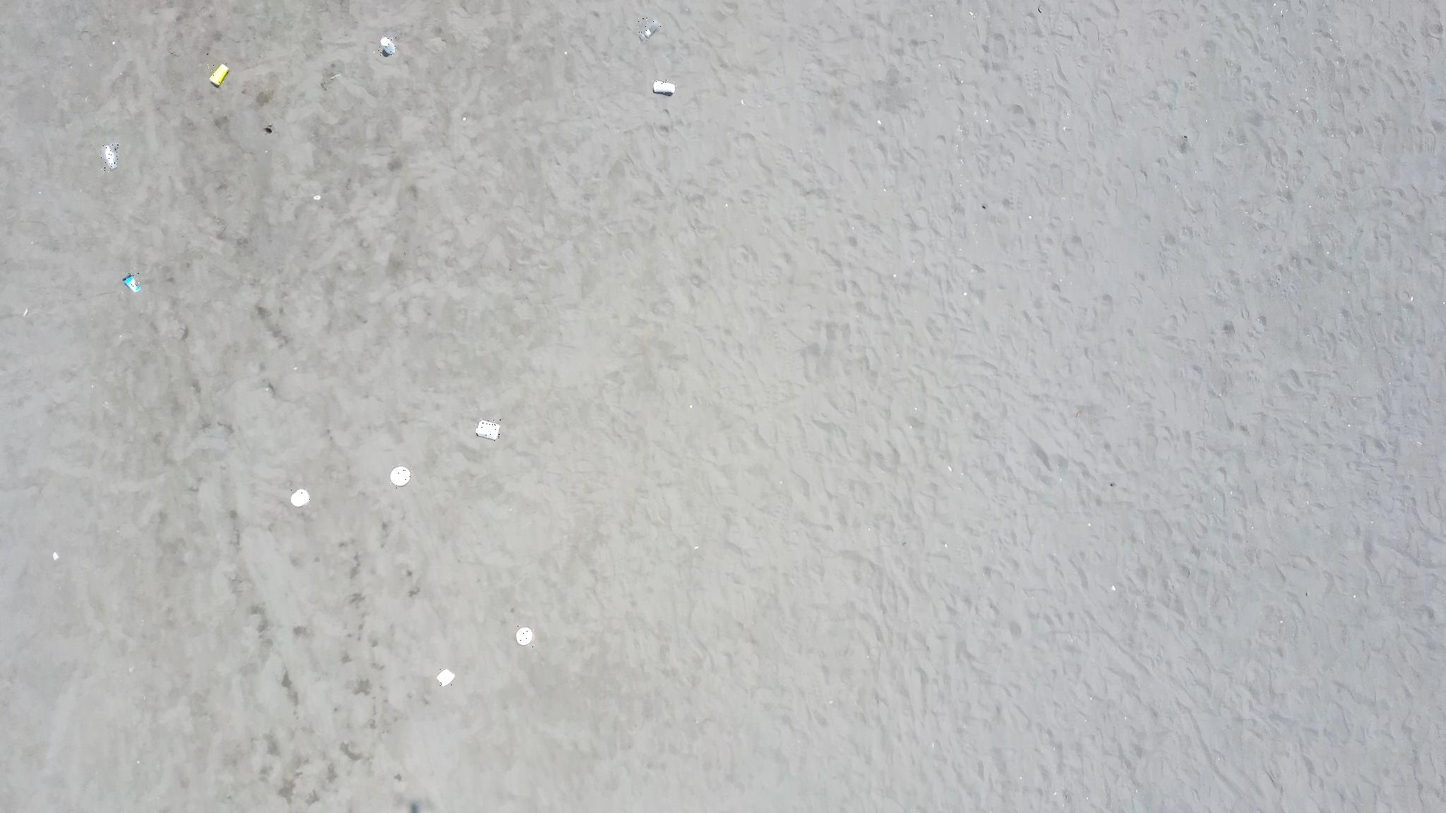Garbage: (637, 17, 659, 42), (475, 420, 498, 440), (101, 143, 118, 169), (390, 466, 410, 486), (210, 64, 227, 86), (290, 488, 309, 506), (652, 82, 674, 96), (122, 274, 140, 291), (437, 669, 454, 686), (516, 627, 532, 645), (381, 37, 395, 55), (264, 125, 273, 132), (313, 194, 321, 200), (52, 552, 58, 560)
